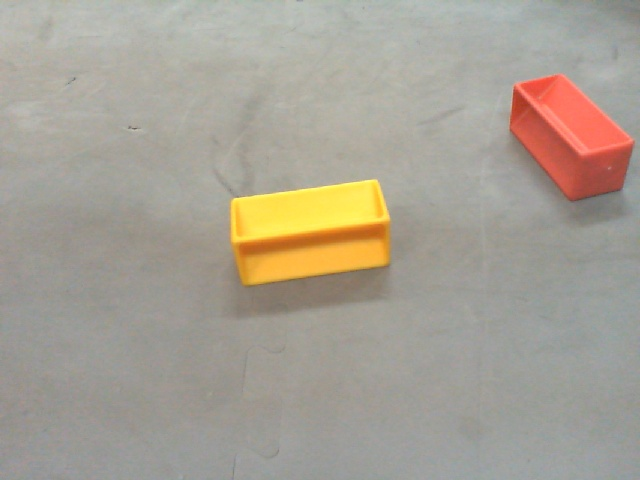RedSample: (510, 73, 638, 201)
YellowSample: (229, 175, 394, 284)
